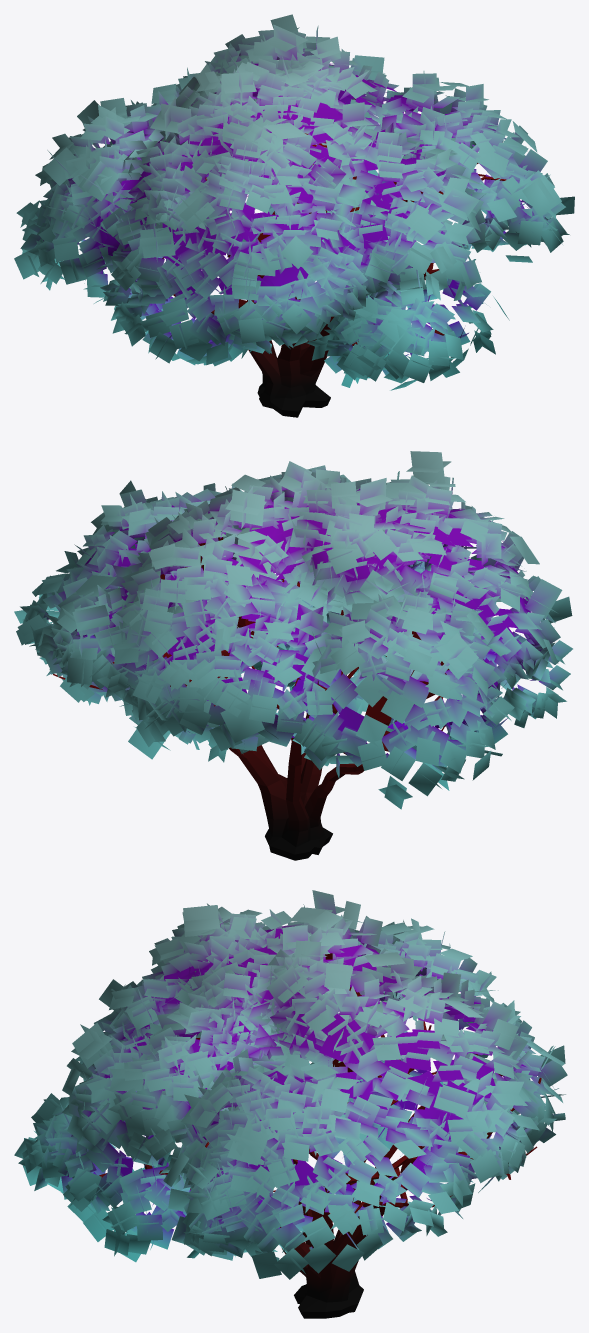
Rendered from SM_Env_Tree_Pohutukawa_02.glb.
3 views of the same model, one above another, from view 1: azimuth 30°, elevation 25°; view 2: azimuth 150°, elevation 25°; view 3: azimuth 270°, elevation 25° (orthographic). The views are drawn at different scales.
Visible parts, largest first — view 1: SM_Env_Tree_Pohutukawa_02_LOD0; view 2: SM_Env_Tree_Pohutukawa_02_LOD0, SM_Env_Tree_Pohutukawa_02_Branches_LOD0; view 3: SM_Env_Tree_Pohutukawa_02_LOD0.
Part boxes in pixels (<box>): SM_Env_Tree_Pohutukawa_02_LOD0: <box>14,14,574,417</box>; SM_Env_Tree_Pohutukawa_02_LOD0: <box>14,451,572,860</box>; SM_Env_Tree_Pohutukawa_02_Branches_LOD0: <box>160,537,449,725</box>; SM_Env_Tree_Pohutukawa_02_LOD0: <box>14,890,567,1318</box>.
Size of what is drawn, in the model's own units: 8.64 by 5.97 by 8.03.
